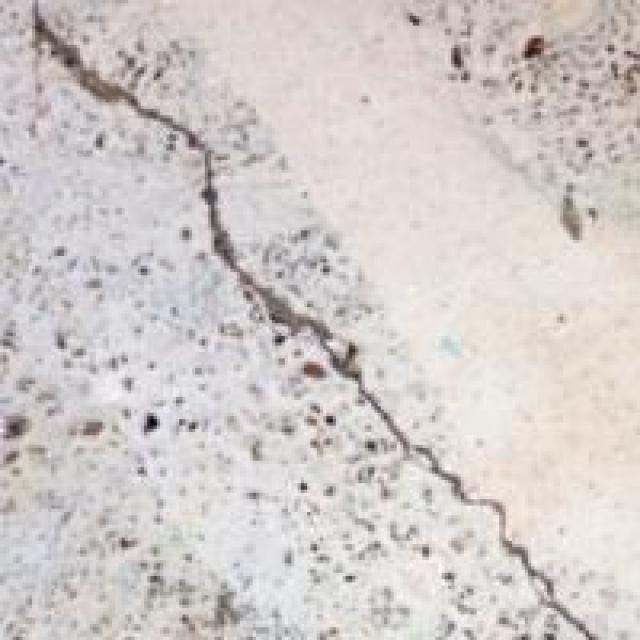Crack: (42, 10, 583, 637)
